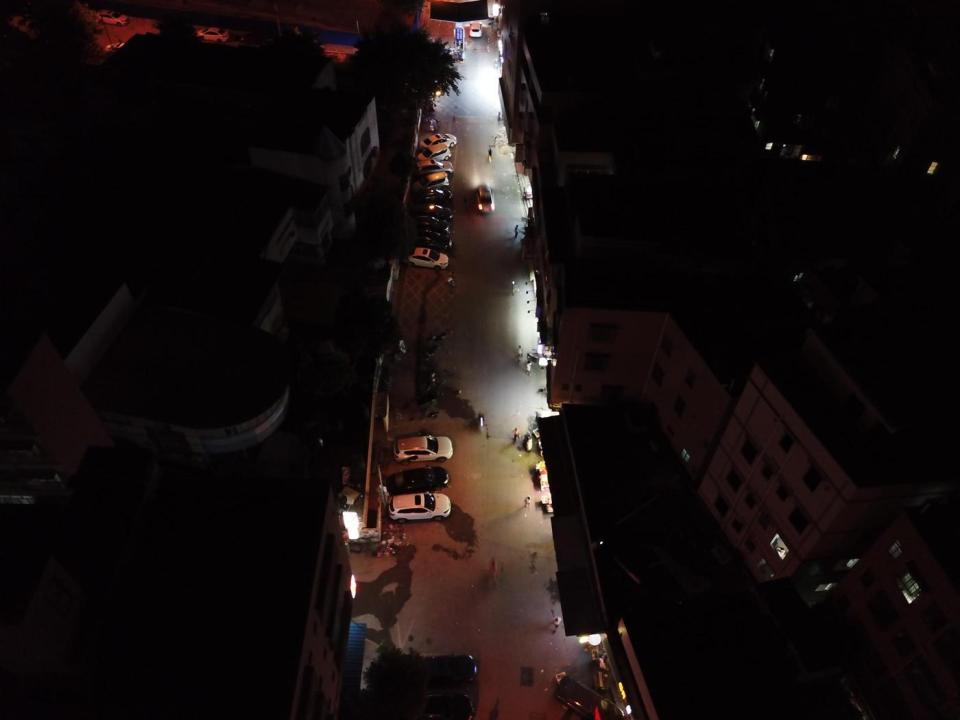car: (555, 675, 624, 720), (411, 652, 478, 690), (386, 463, 450, 496), (388, 491, 451, 523), (410, 691, 477, 720), (393, 435, 453, 464), (403, 246, 449, 271), (412, 230, 453, 252), (412, 172, 450, 195), (412, 202, 453, 222), (414, 158, 453, 178), (417, 143, 452, 164), (419, 133, 457, 152), (414, 188, 453, 206), (414, 216, 451, 234), (475, 184, 495, 213), (468, 21, 483, 38)
